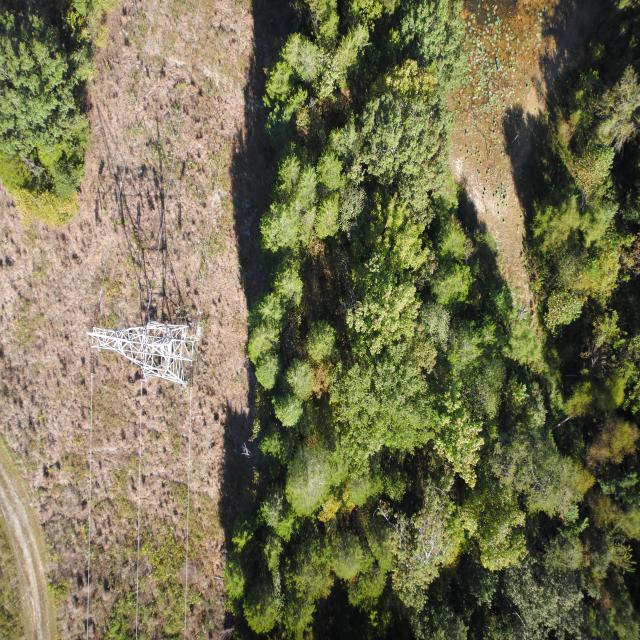Area of Interest: (249, 2, 634, 634), (5, 7, 84, 223)
